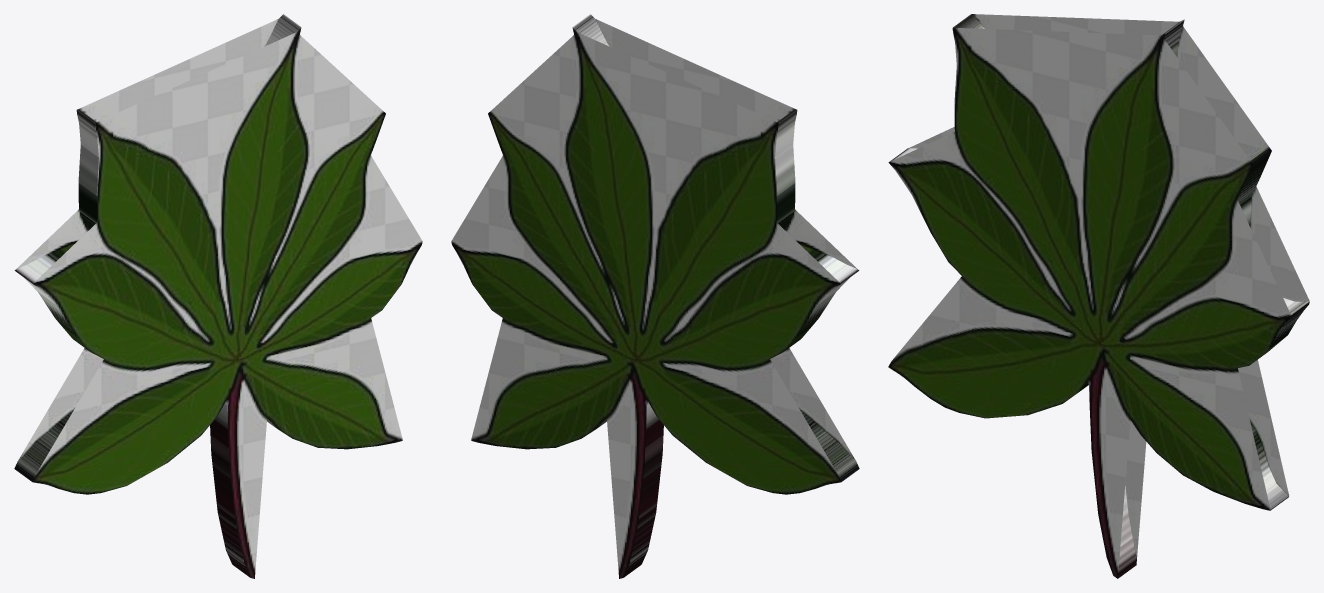
File: kDaun_Singkong.fbx
3 views of the same model, side by side, from view 1: azimuth 30°, elevation 25°; view 2: azimuth 150°, elevation 25°; view 3: azimuth 330°, elevation 25° (orthographic). The views are drawn at different scales.
Parts seen in each view (by area): view 1: Trace; view 2: Trace; view 3: Trace.
Boxes of the visible parts, x1,y1,x2,y2 form: Trace: [14, 14, 422, 578]; Trace: [451, 14, 859, 578]; Trace: [888, 14, 1309, 578].
Bounding box in the file's own units: 474 × 627 × 38.22.
1 material, 1 textured.
